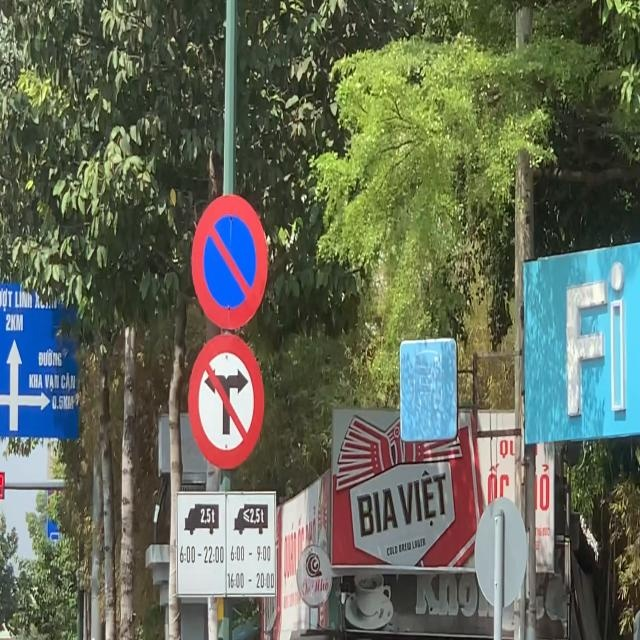bien_cam: (182, 329, 275, 472), (187, 185, 271, 337)
